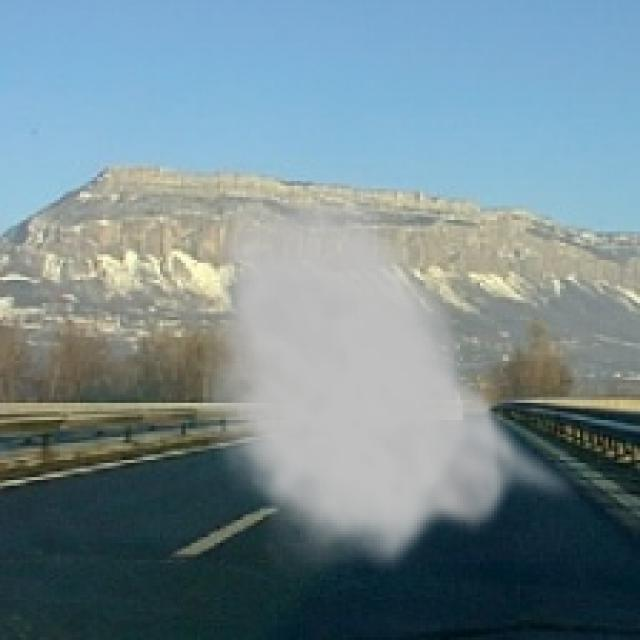Smoke: (197, 165, 583, 580)
